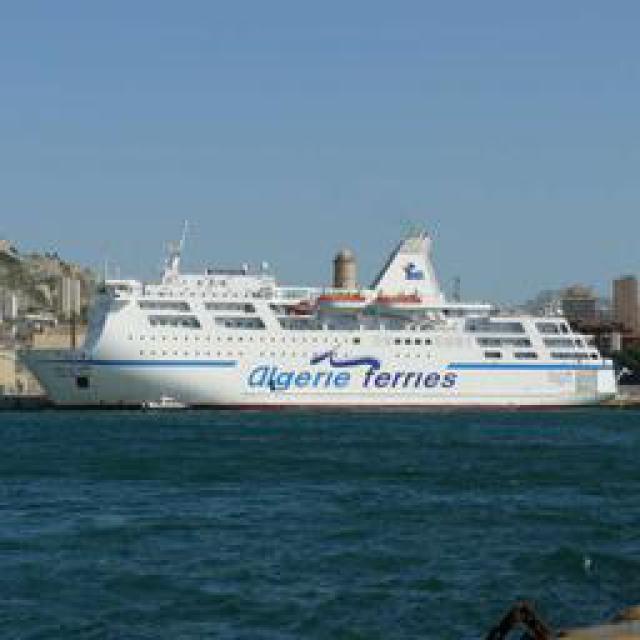Ship: (21, 227, 631, 420)
